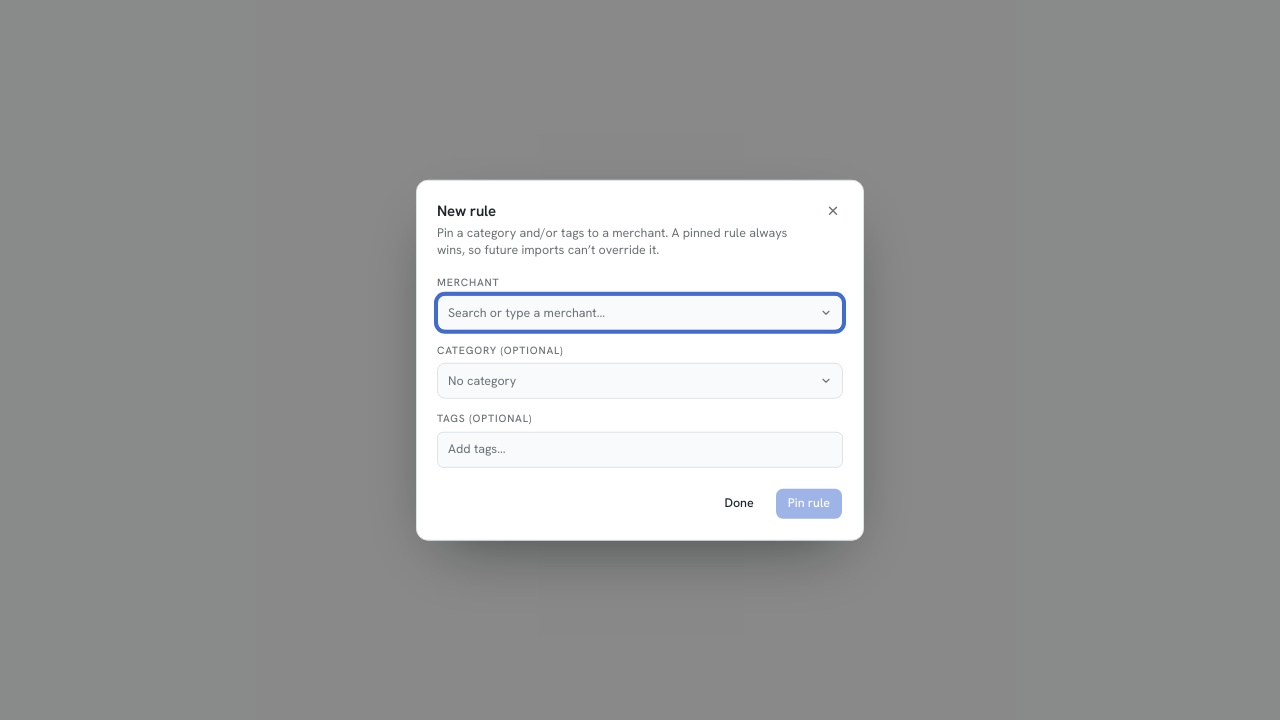
Test: NewRuleDialog (app/settings/rules/new-rule-dialog.tsx) › submits category rule, executes mutation, and invalidates rules cache
Click the button "Search or type a merchant…": (526, 312) [437, 295, 843, 331]
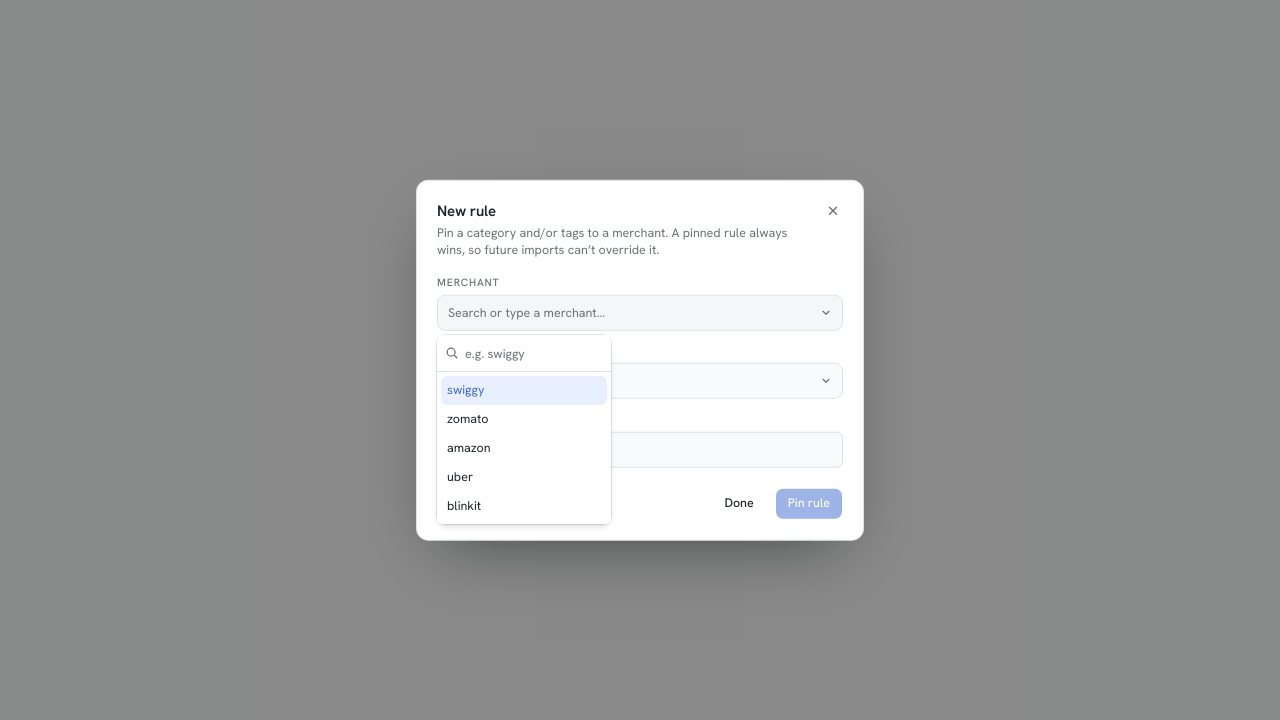
Click the option "swiggy": (524, 390) [441, 376, 607, 405]
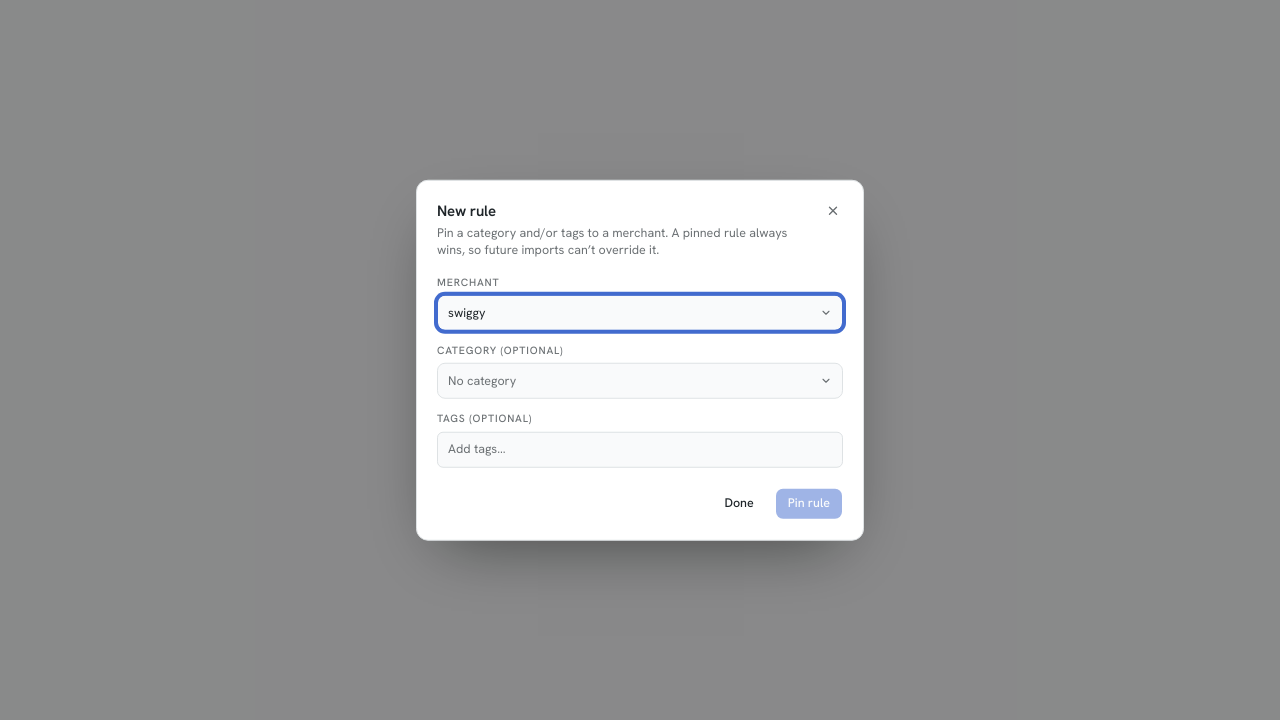
Open category selector and pick "Food & Dining"
Click the button "No category": (482, 380) [437, 363, 843, 399]
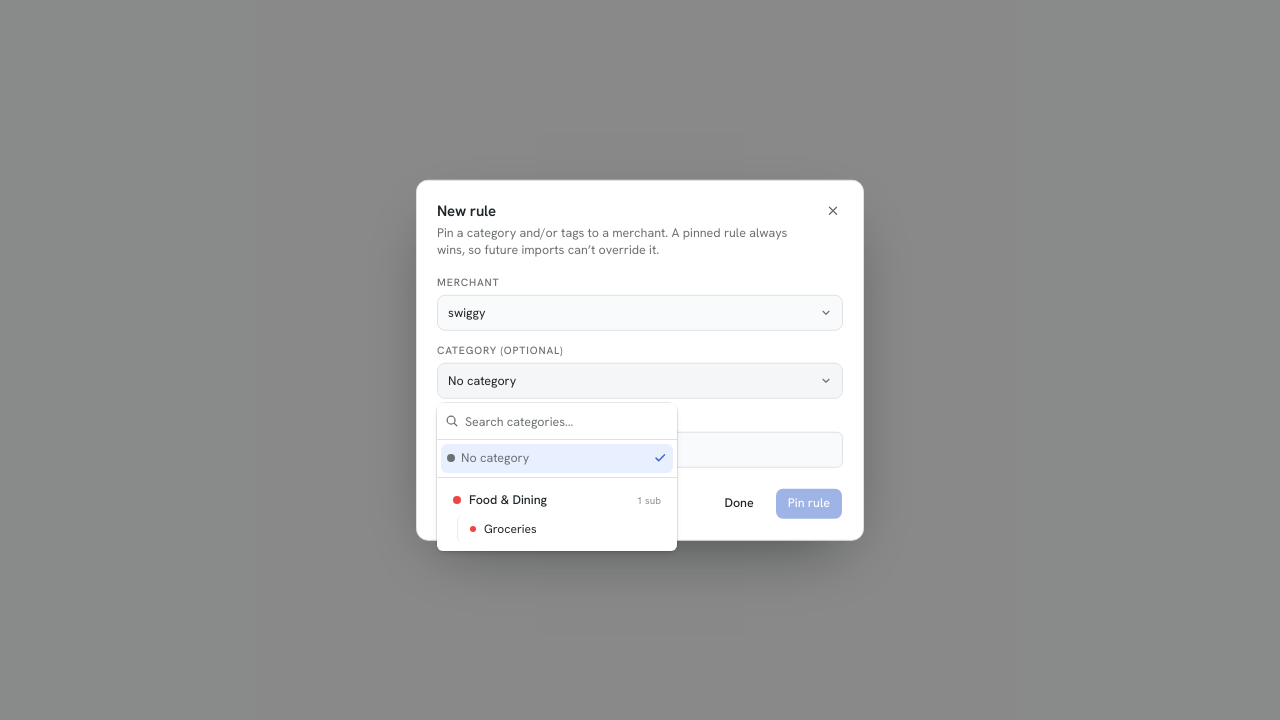
Click the text "Food & Dining": (508, 499) [469, 491, 547, 508]
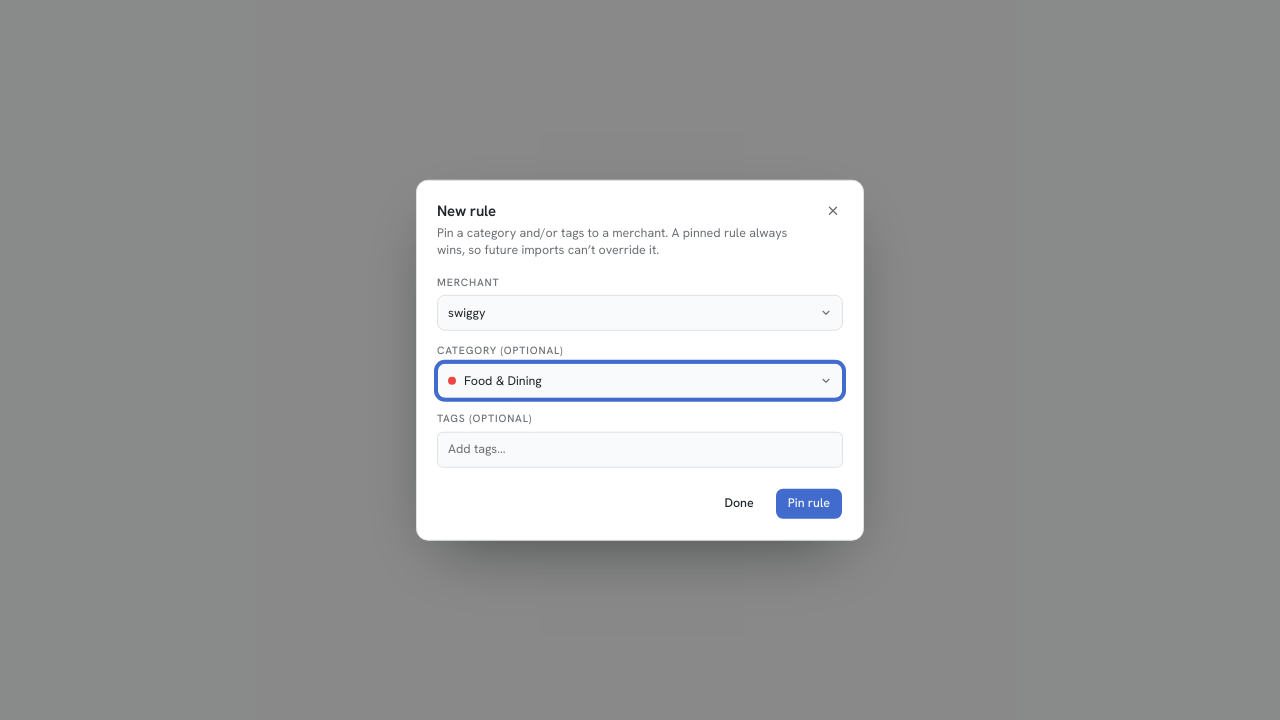
Expected: the button "Pin rule" is enabled
Click the button "Pin rule": (809, 503) [775, 487, 843, 519]
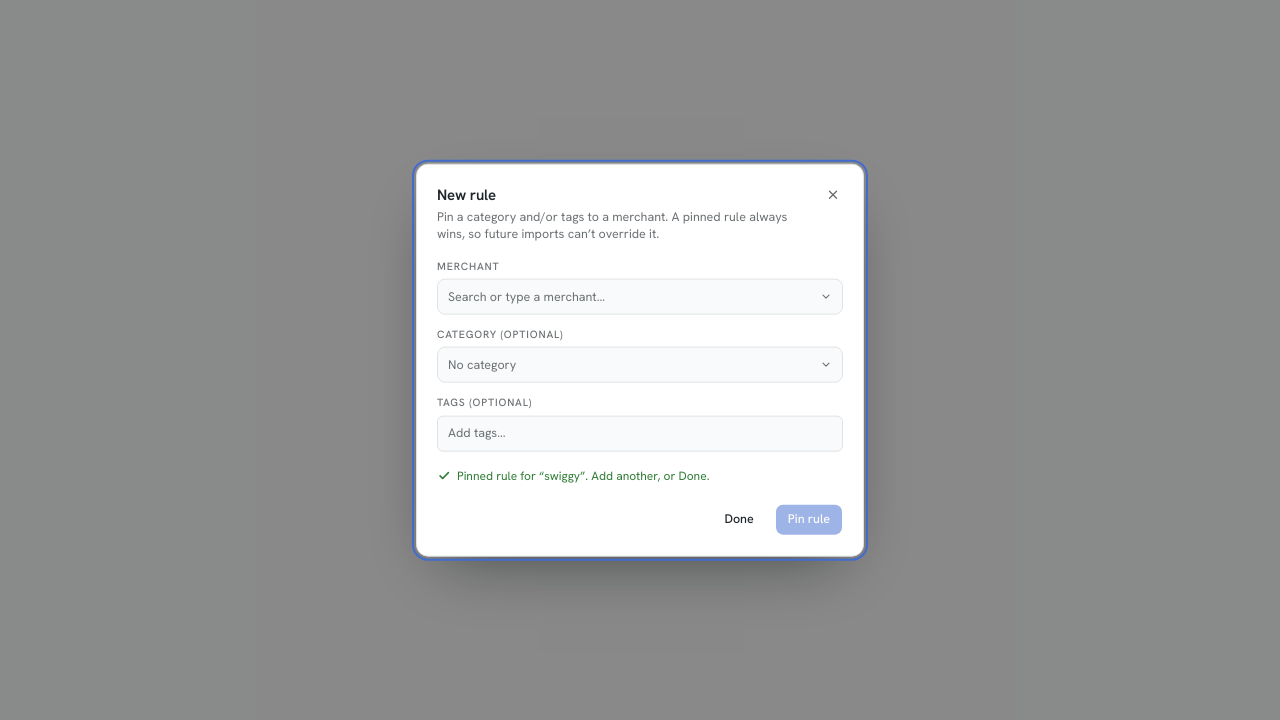
Expected: the text "Pinned rule for “swiggy”. Add another, or Done." is shown, [437, 467, 710, 483]
